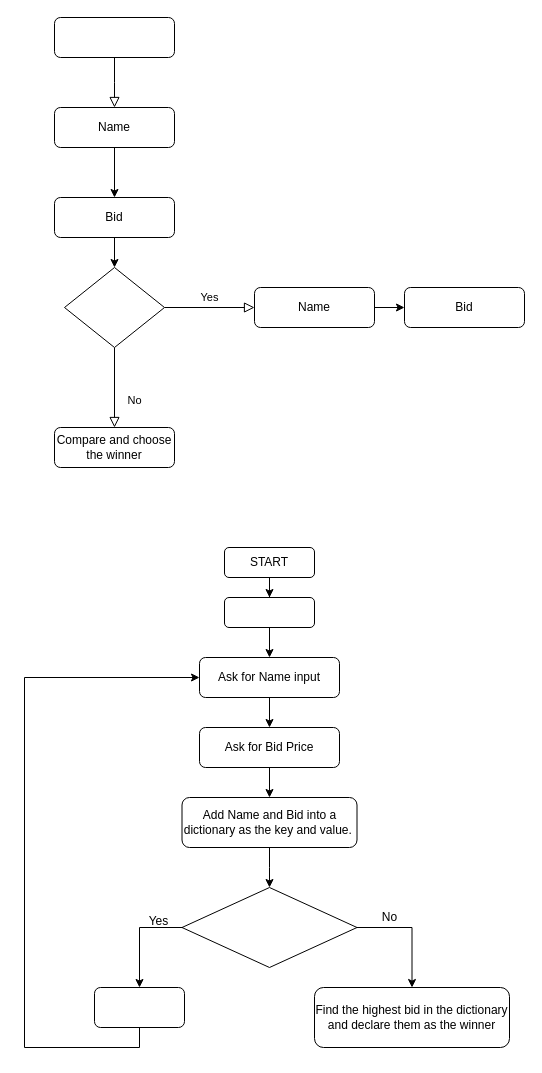
The diagram is 542 pixels wide and 1073 high, and some of its shapes have lost their labels. Each missing label, with the centre of its shape:
"Any other Bidders?" goes at (x=114, y=307).
"Ask if there are other users who want to bid" goes at (x=269, y=927).
"Clear the screen" goes at (x=139, y=1007).
"Secret Auction" goes at (x=114, y=37).
"Show logo from art.py" goes at (x=269, y=612).
